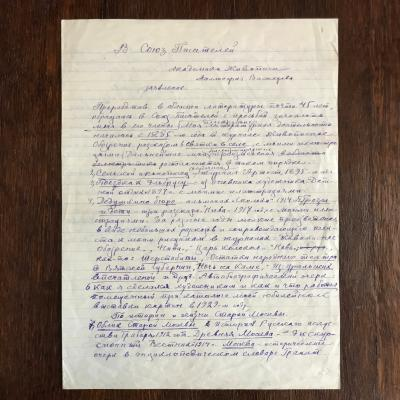document: (64, 19, 340, 390)
